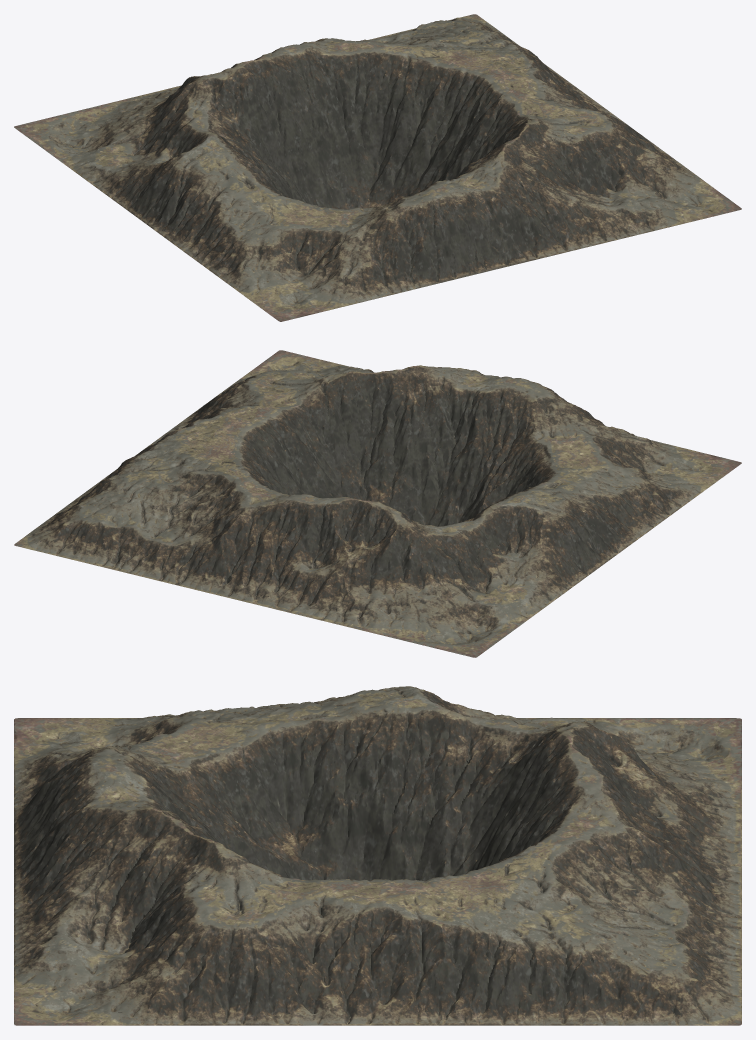
The picture shows the model from 3 angles, top to bottom: view 1: azimuth 30°, elevation 25°; view 2: azimuth 150°, elevation 25°; view 3: azimuth 270°, elevation 25°; orthographic projection. The views are drawn at different scales.
Parts seen in each view (by area): view 1: Mesh_COLORMAP BAKE_0 (×3); view 2: Mesh_COLORMAP BAKE_0 (×3); view 3: Mesh_COLORMAP BAKE_0 (×3).
Part boxes in pixels (box(x1,y1,x2,y2)): Mesh_COLORMAP BAKE_0 (×3): box(14, 14, 741, 321); Mesh_COLORMAP BAKE_0 (×3): box(14, 350, 741, 657); Mesh_COLORMAP BAKE_0 (×3): box(14, 686, 741, 1025).
Bounding box in the file's own units: 32.89 × 10.58 × 32.89.
Materials: 1 (1 with a texture image).
